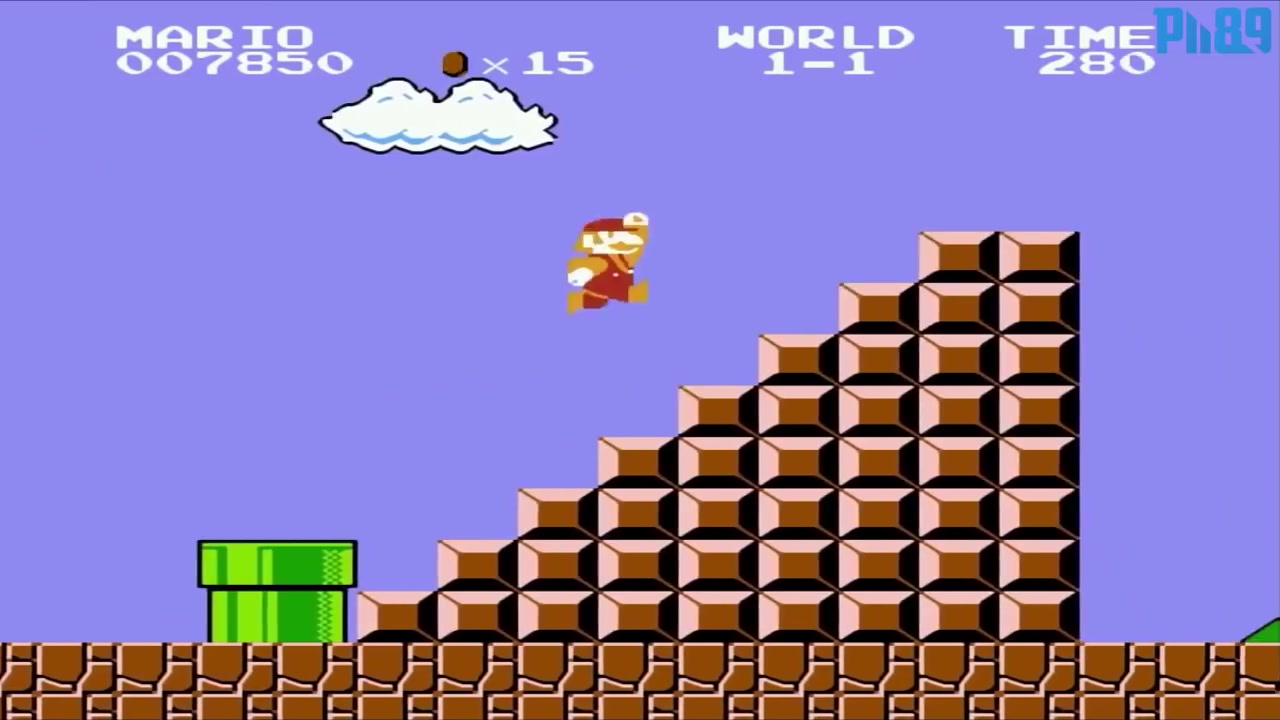mario: (551, 204, 667, 308)
